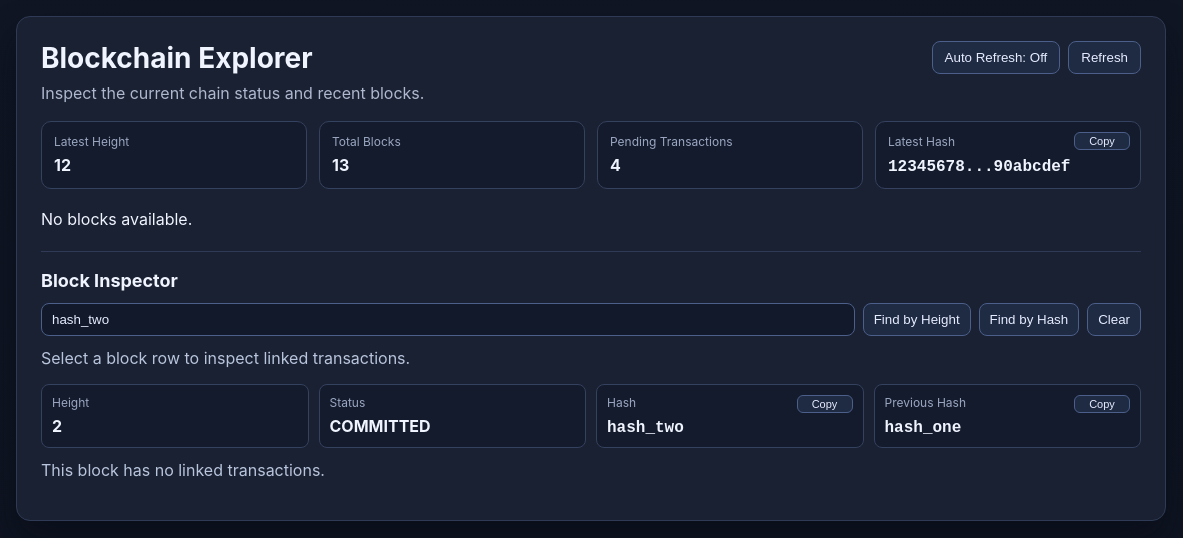
clear inspector resets detail state and removes hash/height query params
Expected: the text "hash_two" is shown, [607, 419, 684, 437]
Click the button named "Clear inspector": (1114,320) [1087, 303, 1141, 336]
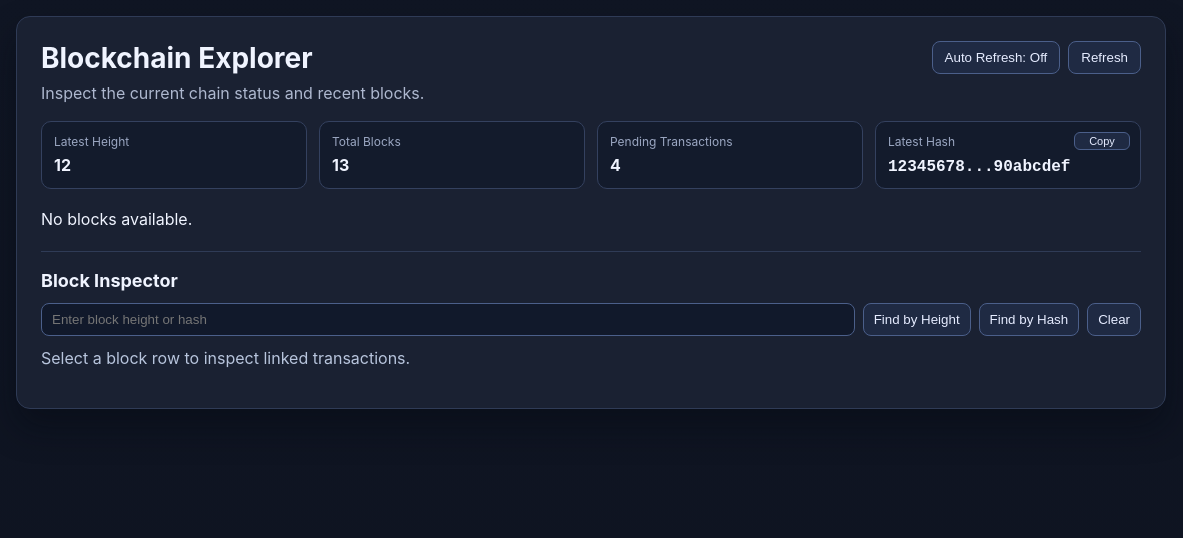
Expected: the text "Select a block row to inspect linked transactions." is shown, [41, 348, 410, 368]
Expected: the field named "Block lookup input" is empty, [41, 303, 855, 336]
